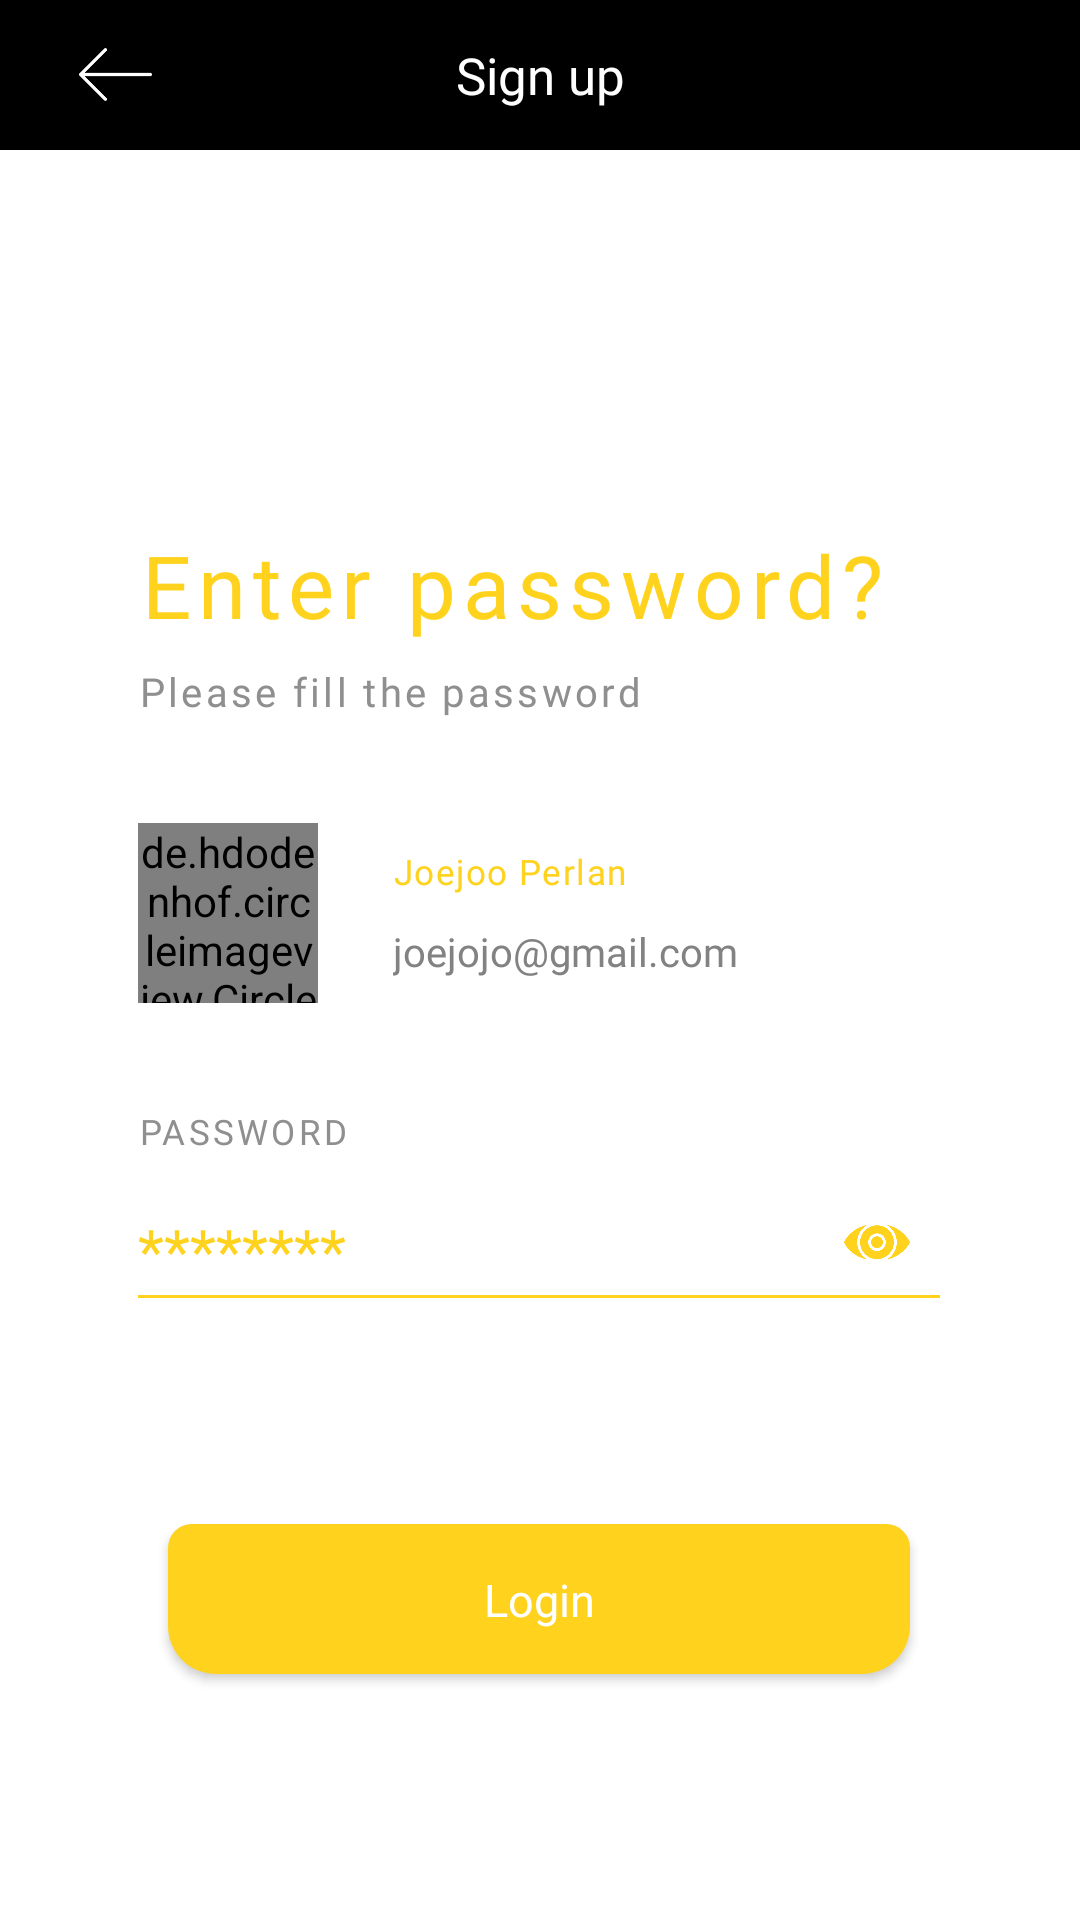

Icon click points for this 1080 × 1920 phone screenshot, format [x,y]:
left arrow: [115,74]
show: [877,1242]
